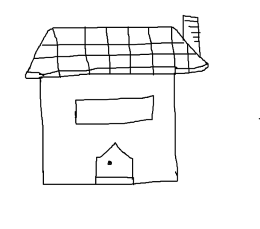chimney: (182, 15, 201, 57)
door: (90, 141, 139, 188)
open_window: (70, 94, 161, 133)
roof: (25, 26, 209, 79)
wall: (37, 69, 179, 189)
